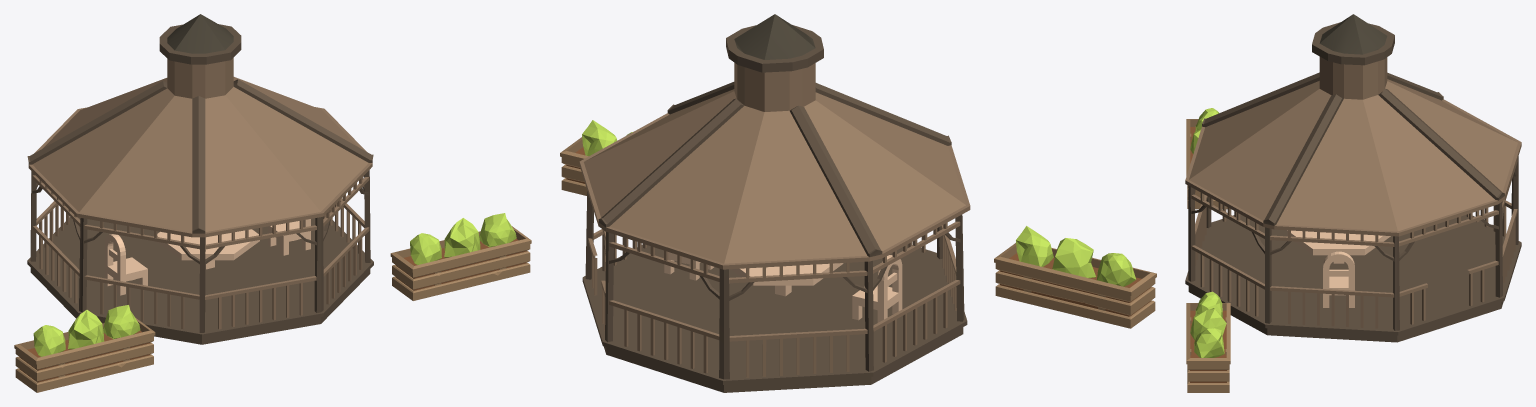
The model's file is combo-gazebo-tea-corner.glb.
3 views of the same model, side by side, from view 1: azimuth 30°, elevation 25°; view 2: azimuth 150°, elevation 25°; view 3: azimuth 270°, elevation 25° (orthographic). The views are drawn at different scales.
Visible parts, largest first — view 1: 00_asset-063, 05_asset-072, 04_asset-072, 01_asset-003, 02_asset-025, 03_asset-025; view 2: 00_asset-063, 04_asset-072, 05_asset-072, 02_asset-025, 01_asset-003; view 3: 00_asset-063, 05_asset-072, 01_asset-003, 03_asset-025, 04_asset-072.
Part boxes in pixels (x1=…): 00_asset-063: x1=27, y1=14, x2=373, y2=344; 05_asset-072: x1=390, y1=213, x2=531, y2=300; 04_asset-072: x1=14, y1=305, x2=155, y2=392; 01_asset-003: x1=157, y1=229, x2=259, y2=269; 02_asset-025: x1=104, y1=234, x2=147, y2=295; 03_asset-025: x1=267, y1=219, x2=310, y2=255; 00_asset-063: x1=579, y1=14, x2=970, y2=392; 04_asset-072: x1=994, y1=226, x2=1156, y2=328; 05_asset-072: x1=560, y1=120, x2=632, y2=195; 02_asset-025: x1=852, y1=255, x2=902, y2=322; 01_asset-003: x1=731, y1=263, x2=843, y2=296; 00_asset-063: x1=1185, y1=14, x2=1521, y2=342; 05_asset-072: x1=1186, y1=291, x2=1230, y2=392; 01_asset-003: x1=1286, y1=230, x2=1390, y2=263; 03_asset-025: x1=1323, y1=251, x2=1354, y2=307; 04_asset-072: x1=1186, y1=108, x2=1227, y2=209.
Bounding box in the file's own units: 7.9 × 3.95 × 4.64.
